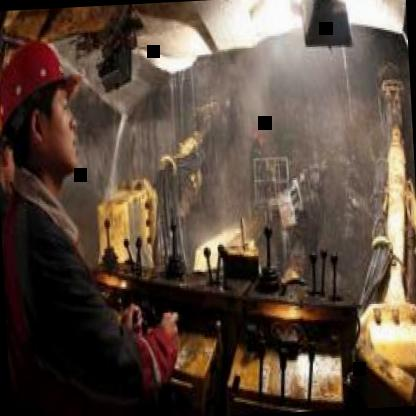helmet: (0, 27, 89, 193)
